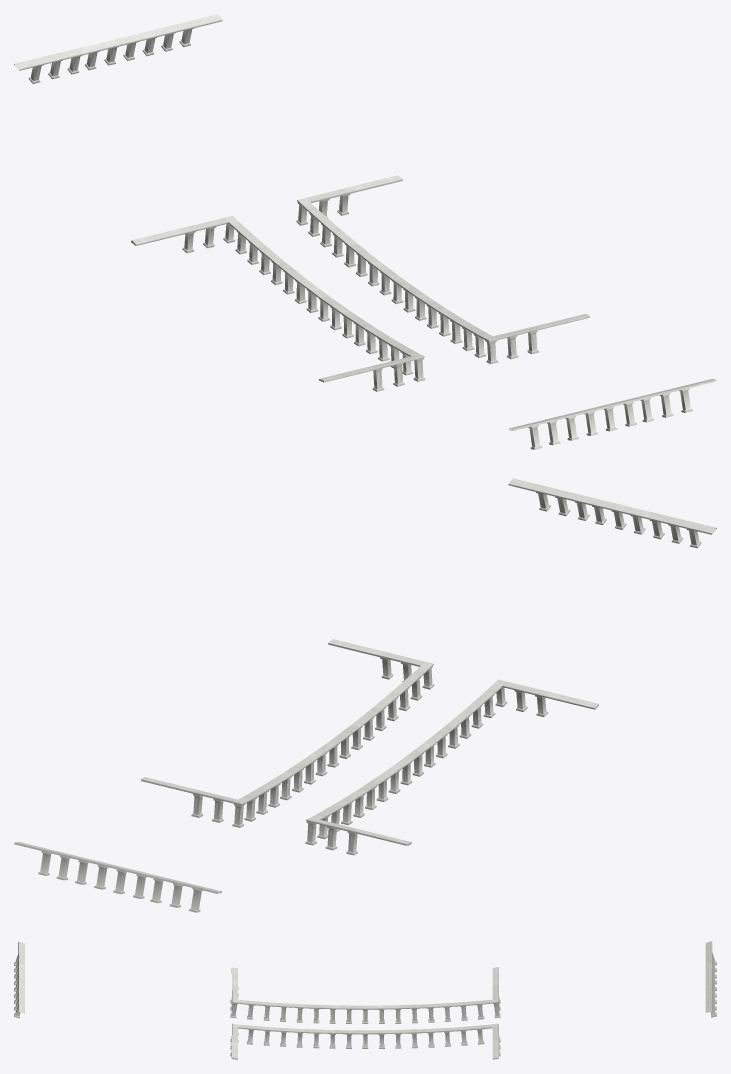
The model's file is RailsUpstairsExport.fbx.
The picture shows the model from 3 angles, top to bottom: view 1: azimuth 30°, elevation 25°; view 2: azimuth 150°, elevation 25°; view 3: azimuth 270°, elevation 25°; orthographic projection. The views are drawn at different scales.
Parts seen in each view (by area): view 1: Cube.011; view 2: Cube.011; view 3: Cube.011.
Part boxes in pixels (x1,y1,x2,y2): Cube.011: (14,14,716,449); Cube.011: (14,478,716,912); Cube.011: (14,941,716,1059).
Bounding box in the file's own units: 1337 × 422 × 4378.
